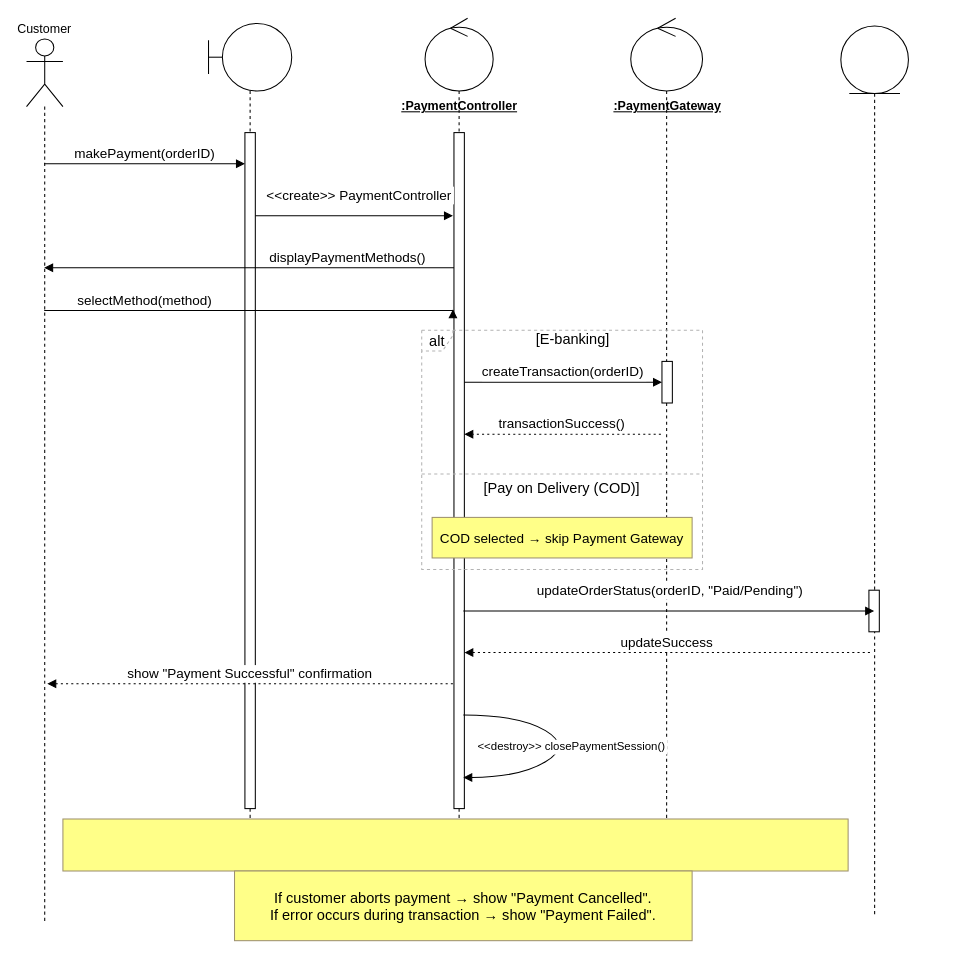
Some shapes in this 970 by 959 pixel diagram are drawn without their labels. The shapes that lost their labels are listed below. From the top down, each one's box as (x1, y1, x2, y2) in pixels, then its label:
(207, 22, 292, 918): :PaymentPageView
(840, 25, 908, 915): :Orders
(62, 818, 848, 871): Customer completes payment. Order status updated accordingly.
